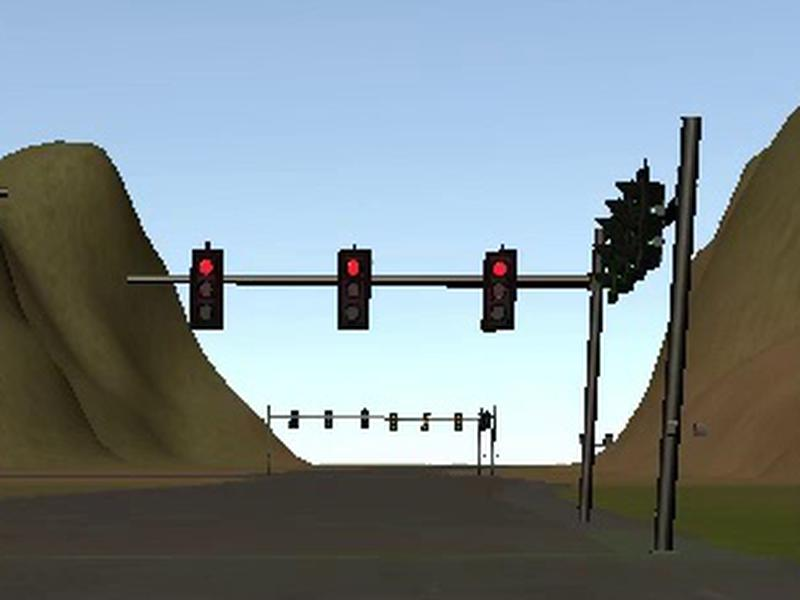Red: (481, 251, 515, 333), (338, 248, 372, 329), (189, 248, 223, 329)
